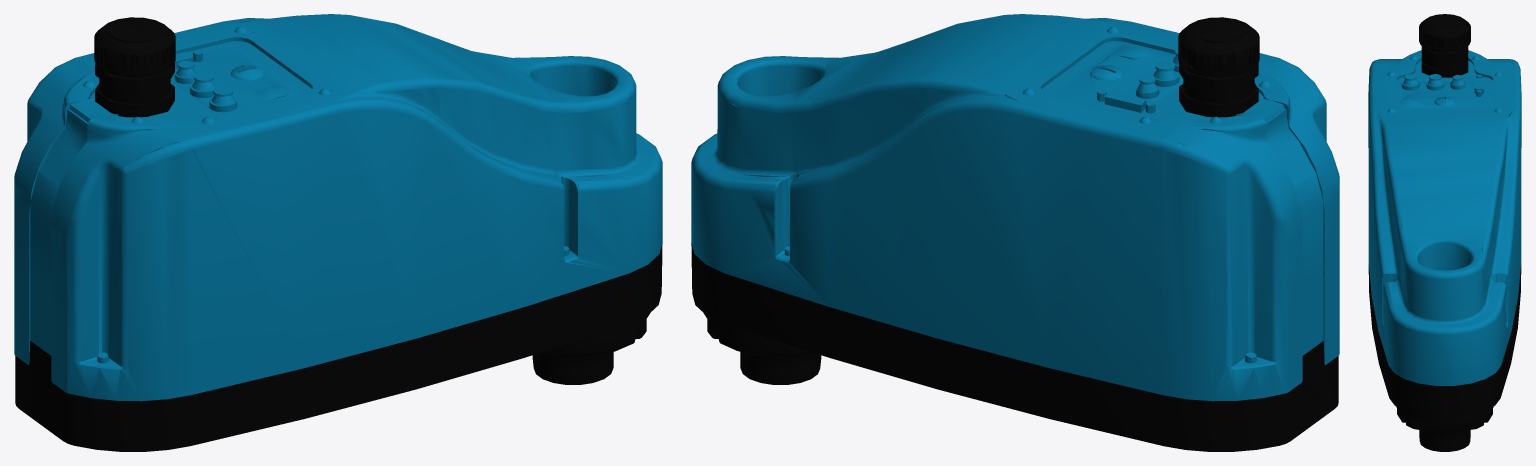
3 views of the same model, side by side, from view 1: azimuth 30°, elevation 25°; view 2: azimuth 150°, elevation 25°; view 3: azimuth 270°, elevation 25° (orthographic). The views are drawn at different scales.
Visible parts, largest first — view 1: sg650_lk2; view 2: sg650_lk2; view 3: sg650_lk2.
Part boxes in pixels (x1,y1,x2,y2): sg650_lk2: (14, 14, 662, 451); sg650_lk2: (691, 14, 1339, 451); sg650_lk2: (1368, 14, 1521, 451).
Size of the model in its own units: 0.4174 by 0.1428 by 0.2915.
